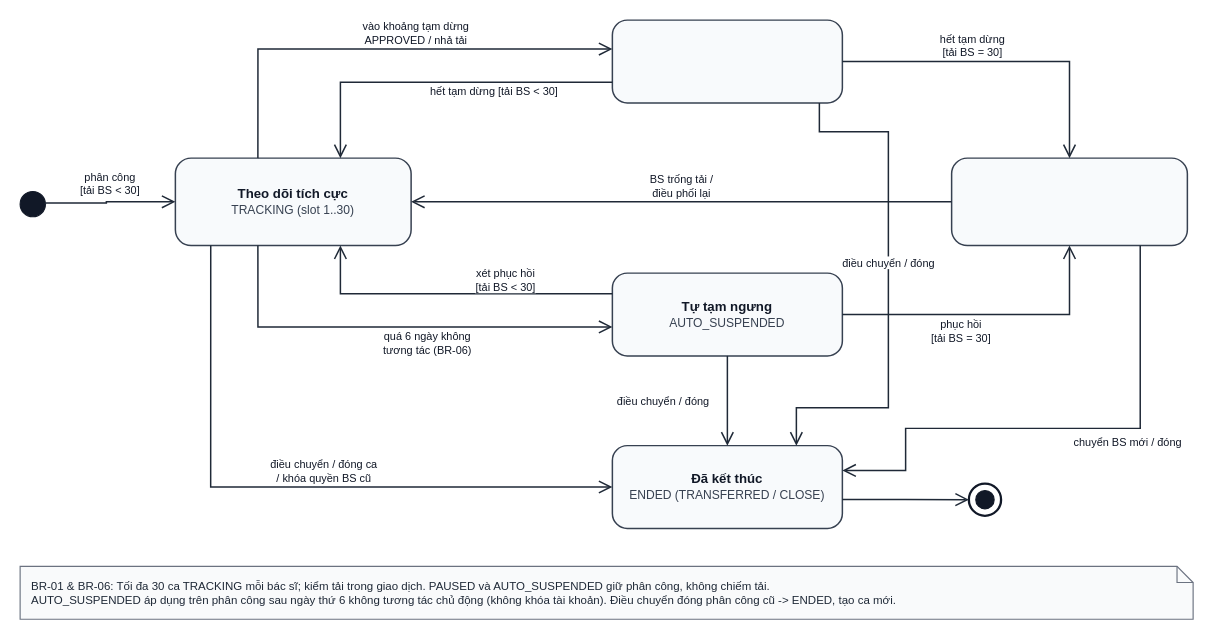
The diagram is 1213 pixels wide and 641 high, and some of its shapes have lost their labels. Each missing label, with the centre of its shape:
"Chờ điều phối tải WAITING_CAPACITY" goes at (1069,201).
"Đang tạm dừng PAUSED" goes at (727,61).
